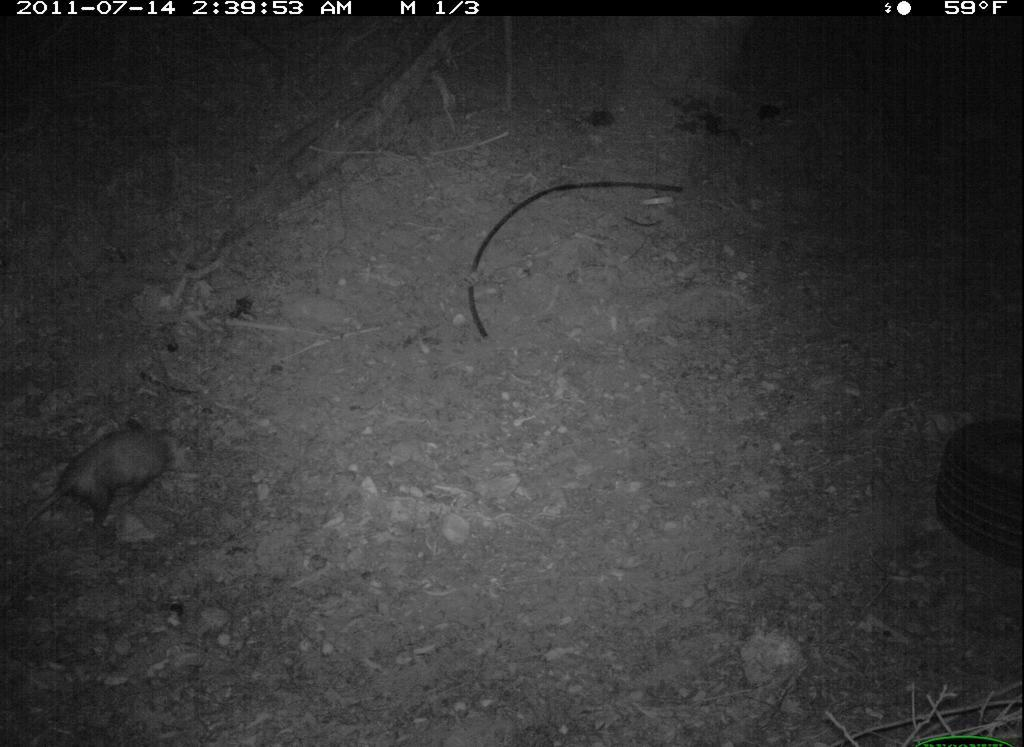opossum: (11, 418, 181, 542)
